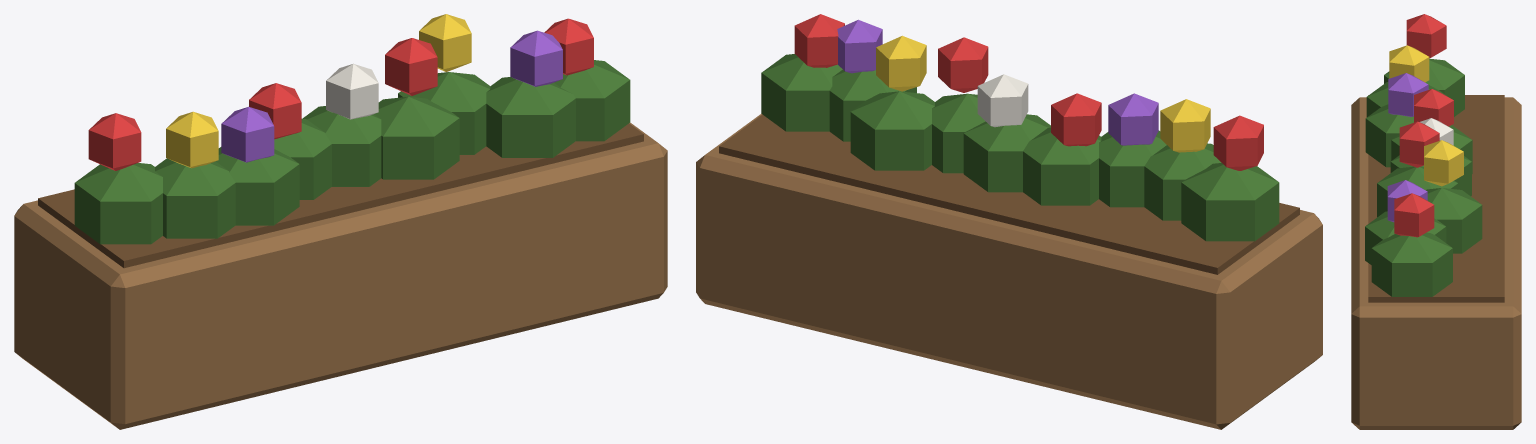
The model's file is flower_box.glb.
3 renders of one model, left to right at view 1: azimuth 30°, elevation 25°; view 2: azimuth 150°, elevation 25°; view 3: azimuth 270°, elevation 25°, orthographic. The views are drawn at different scales.
Visible parts, largest first — view 1: flower_box; view 2: flower_box; view 3: flower_box.
Boxes of the visible parts, x1,y1,x2,y2 form: flower_box: (14,14,667,429); flower_box: (696,14,1322,429); flower_box: (1351,14,1521,429).
Size of the model in its own units: 1.2 by 0.5888 by 0.4.
